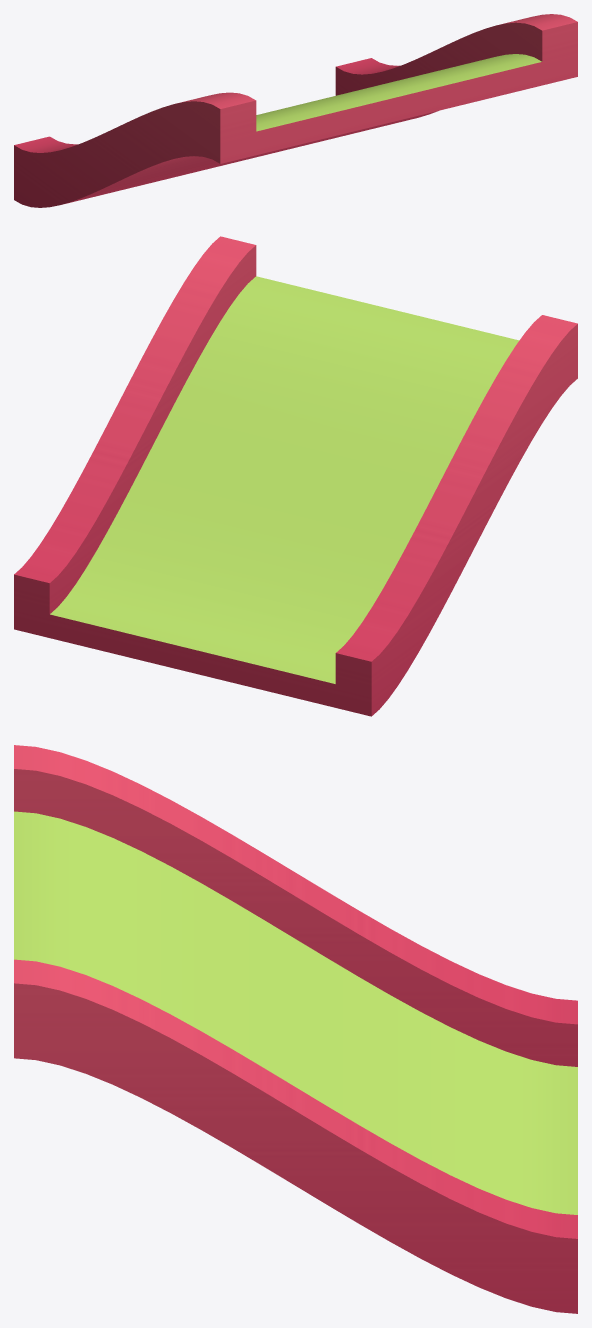
The model's file is ramp.fbx.
The picture shows the model from 3 angles, top to bottom: view 1: azimuth 30°, elevation 25°; view 2: azimuth 150°, elevation 25°; view 3: azimuth 270°, elevation 25°; orthographic projection. The views are drawn at different scales.
Parts seen in each view (by area): view 1: ramp; view 2: ramp; view 3: ramp.
Boxes of the visible parts, x1,y1,x2,y2 form: ramp: (14, 14, 577, 207); ramp: (14, 236, 577, 716); ramp: (14, 745, 577, 1313).
Bounding box in the file's own units: 99.99 × 64.67 × 99.99.
